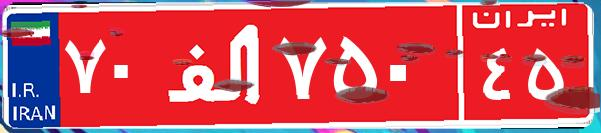0: (385, 28, 445, 110), (110, 28, 158, 105)
4: (475, 38, 525, 113)
5: (330, 28, 385, 110), (525, 38, 570, 115)
7: (273, 28, 330, 110), (57, 26, 110, 107)
الف: (158, 15, 273, 115)
